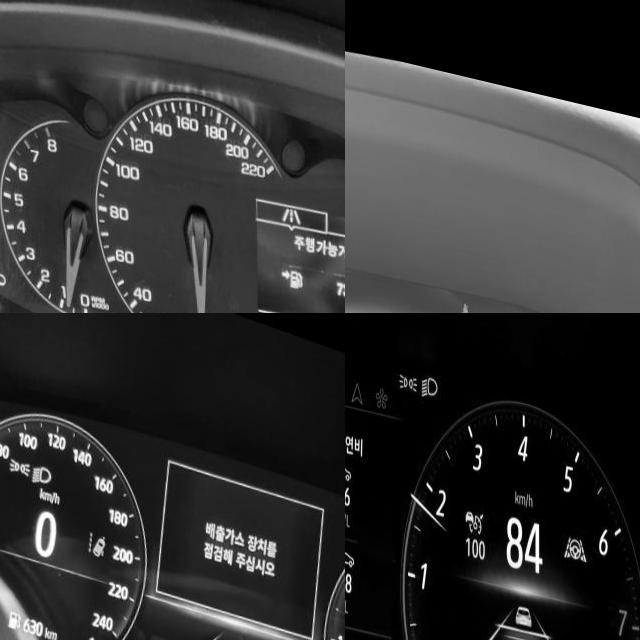LaneCenteringOff: (564, 517, 586, 546)
Low beam: (29, 452, 52, 481), (421, 364, 437, 390)
SideLamp: (6, 448, 30, 470), (398, 362, 416, 383)
